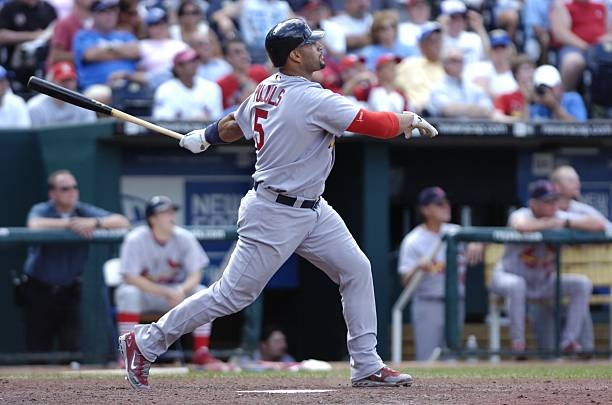bita: (22, 77, 189, 149)
